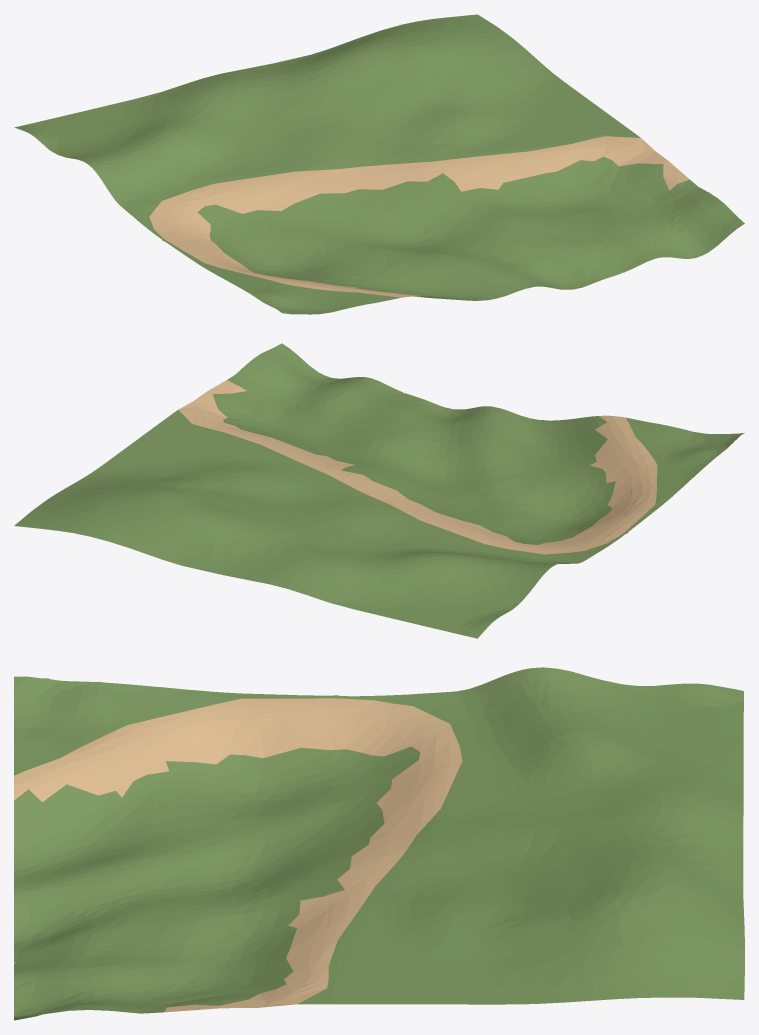
The picture shows the model from 3 angles, top to bottom: view 1: azimuth 30°, elevation 25°; view 2: azimuth 150°, elevation 25°; view 3: azimuth 270°, elevation 25°; orthographic projection. The views are drawn at different scales.
Parts seen in each view (by area): view 1: Plane.004; view 2: Plane.004; view 3: Plane.004.
Part boxes in pixels (x1,y1,x2,y2): Plane.004: [14, 14, 744, 314]; Plane.004: [14, 343, 744, 638]; Plane.004: [14, 667, 744, 1020].
Bounding box in the file's own units: 502 × 63.36 × 501.
